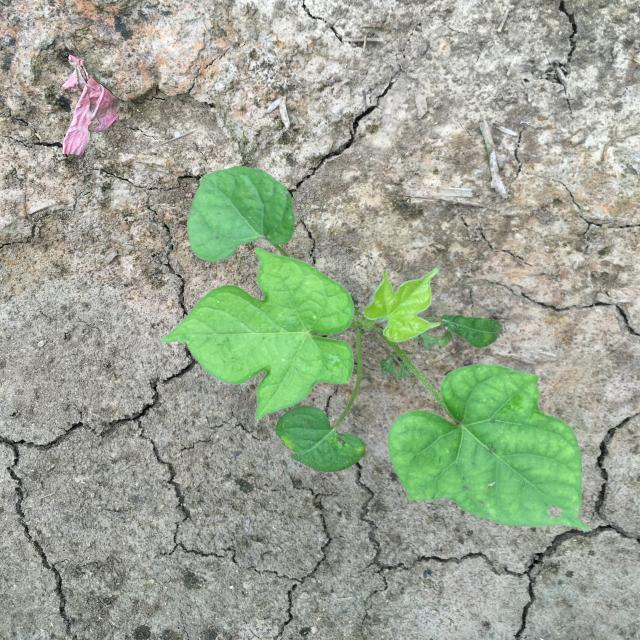MorningGlory: (158, 166, 592, 533)
